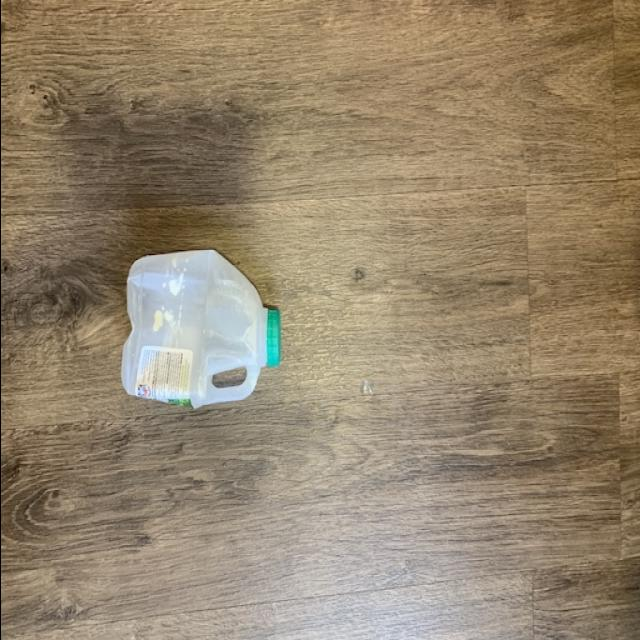litter: (114, 248, 286, 420)
